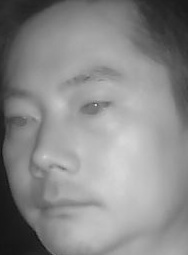eye: (74, 96, 118, 120), (6, 110, 42, 131)
mouth: (30, 185, 109, 225)
